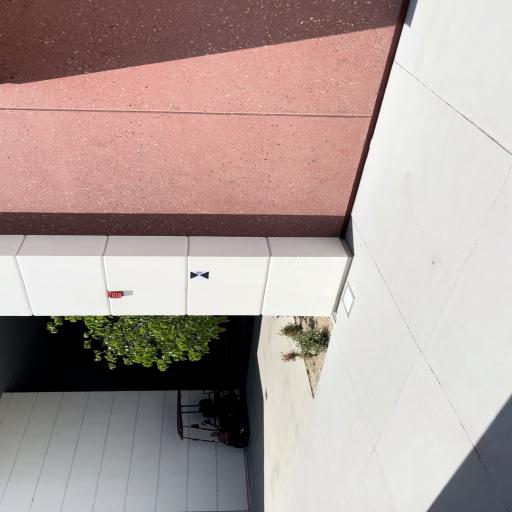target6: (190, 270, 209, 280)
